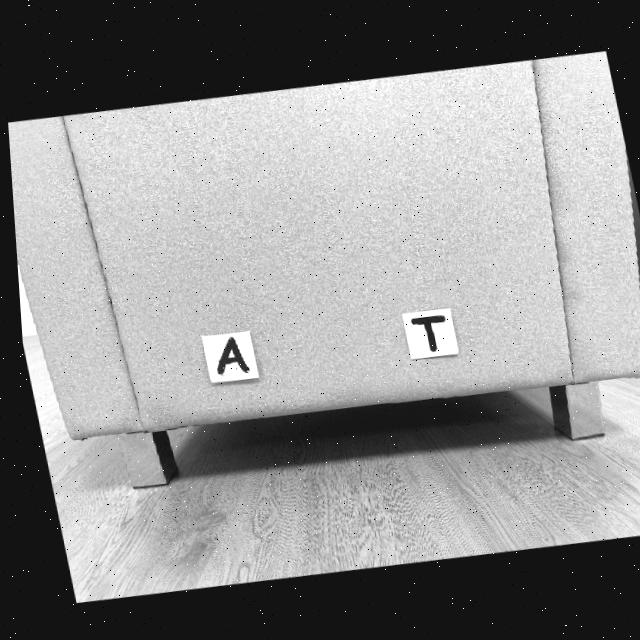A: (213, 336, 244, 374)
T: (407, 313, 441, 350)
